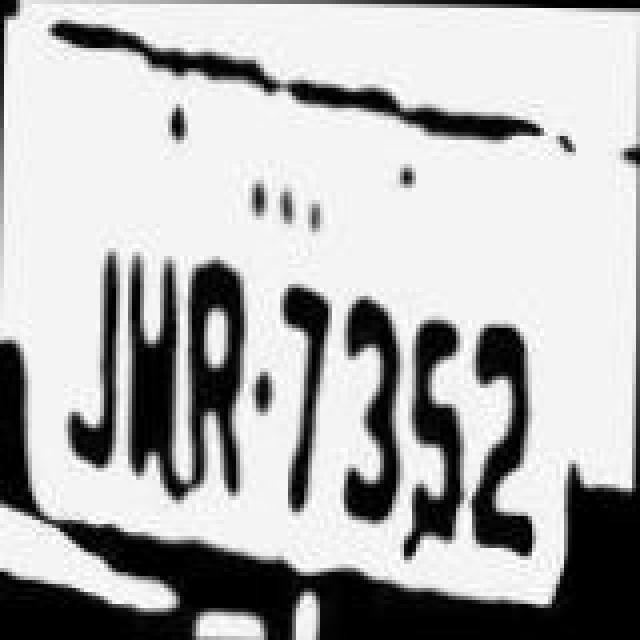2: (470, 316, 546, 560)
3: (336, 276, 408, 528)
5: (406, 296, 474, 544)
7: (274, 250, 342, 522)
J: (54, 226, 126, 470)
R: (186, 236, 258, 500)
W: (126, 214, 190, 486)
